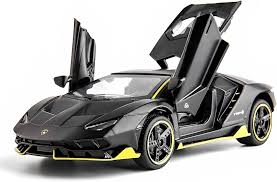car: (11, 1, 274, 172)
